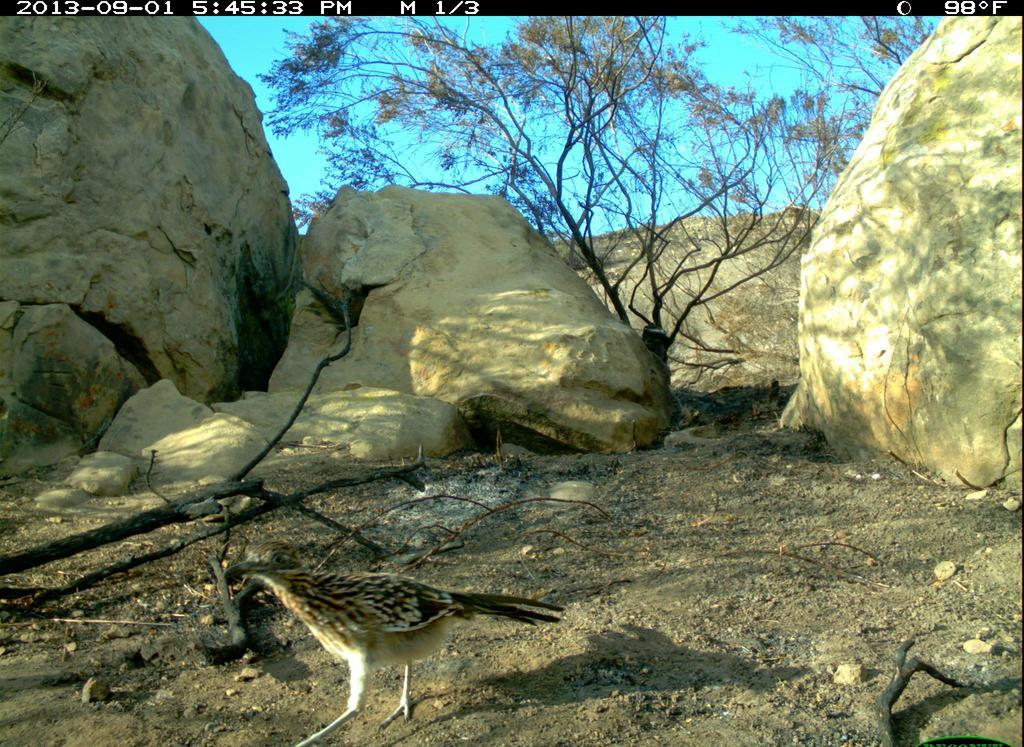bird: (222, 524, 574, 738)
